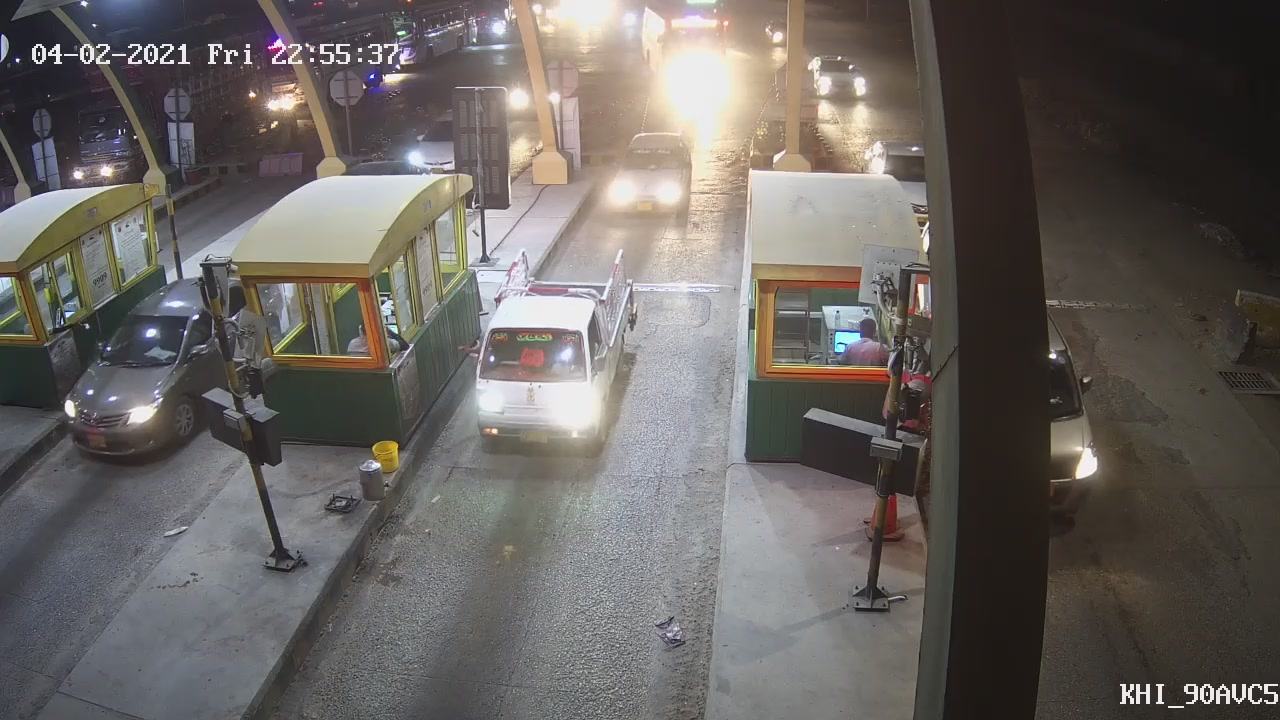F1: (466, 248, 637, 455)
